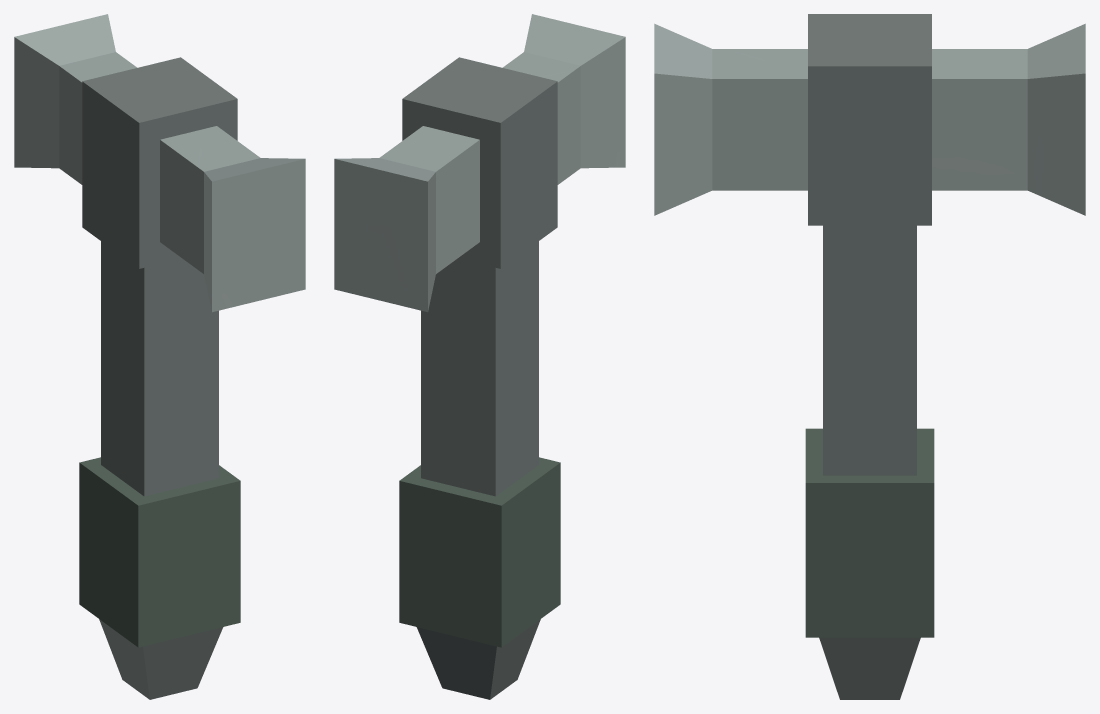
The model's file is Hammer.fbx.
The picture shows the model from 3 angles, left to right: view 1: azimuth 30°, elevation 25°; view 2: azimuth 150°, elevation 25°; view 3: azimuth 270°, elevation 25°; orthographic projection. The views are drawn at different scales.
Visible parts, largest first — view 1: Cube; view 2: Cube; view 3: Cube.
Part boxes in pixels (x1,y1,x2,y2): Cube: (14,14,305,699); Cube: (334,14,625,699); Cube: (654,14,1085,699).
Bounding box in the file's own units: 82.47 × 458 × 276.
